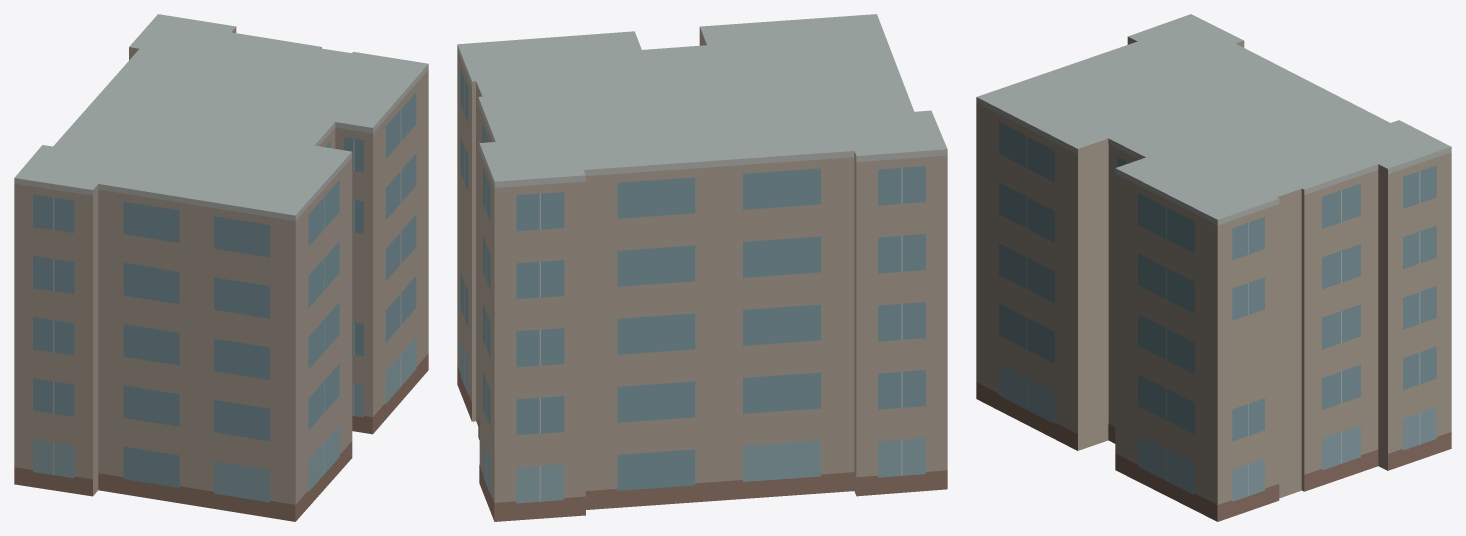
File: survey-upis-32978494.glb
The picture shows the model from 3 angles, left to right: view 1: azimuth 30°, elevation 25°; view 2: azimuth 150°, elevation 25°; view 3: azimuth 270°, elevation 25°; orthographic projection. The views are drawn at different scales.
Visible parts, largest first — view 1: survey-upis-32978494.tmp; view 2: survey-upis-32978494.tmp; view 3: survey-upis-32978494.tmp.
Boxes of the visible parts, x1,y1,x2,y2 form: survey-upis-32978494.tmp: [14, 14, 428, 521]; survey-upis-32978494.tmp: [457, 14, 947, 521]; survey-upis-32978494.tmp: [976, 14, 1451, 521].
Bounding box in the file's own units: 19.67 × 13.45 × 19.18.
